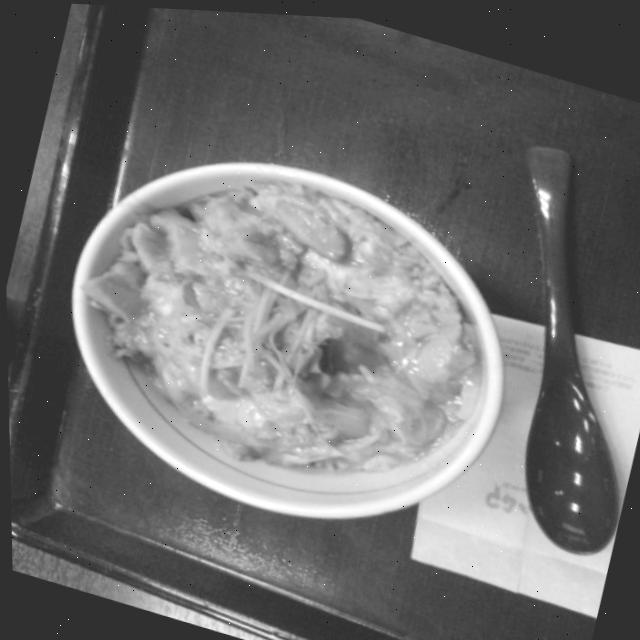米饭主食: (24, 100, 547, 573)
